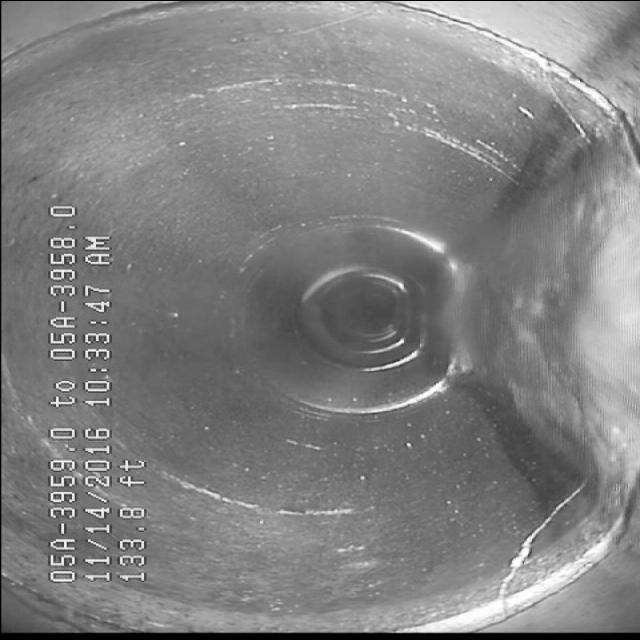Crack: (461, 496, 574, 597), (530, 86, 604, 138)
